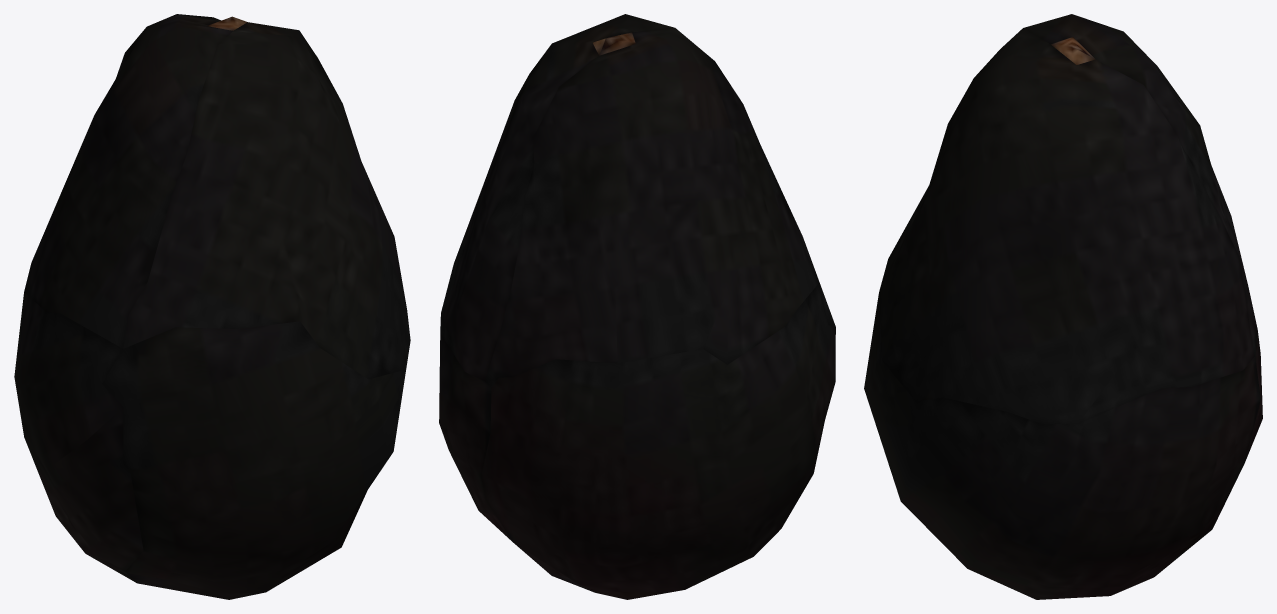
The model's file is food_avocado_01.glb.
The picture shows the model from 3 angles, left to right: view 1: azimuth 30°, elevation 25°; view 2: azimuth 150°, elevation 25°; view 3: azimuth 270°, elevation 25°; orthographic projection. The views are drawn at different scales.
Visible parts, largest first — view 1: food_avocado_01; view 2: food_avocado_01; view 3: food_avocado_01.
Part boxes in pixels (x1,y1,x2,y2): food_avocado_01: (14,14,410,599); food_avocado_01: (439,14,835,599); food_avocado_01: (864,14,1262,599).
Bounding box in the file's own units: 0.0949 × 0.1432 × 0.0939.
Materials: 1 (1 with a texture image).
